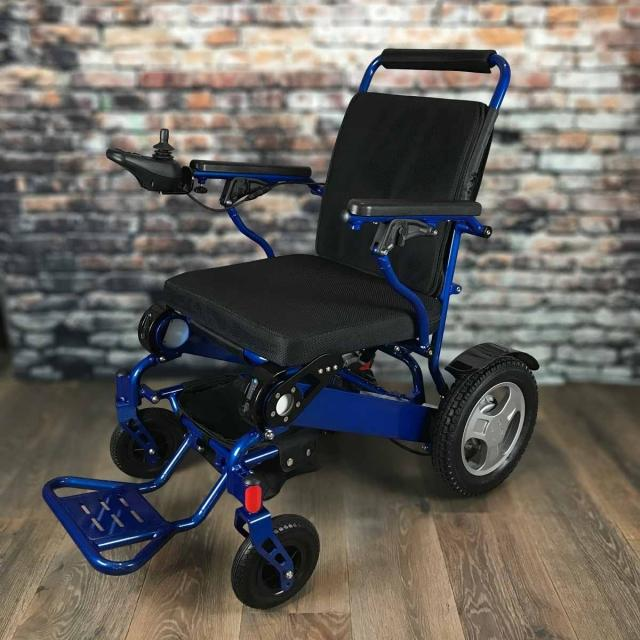wheelchair: (36, 35, 572, 617)
